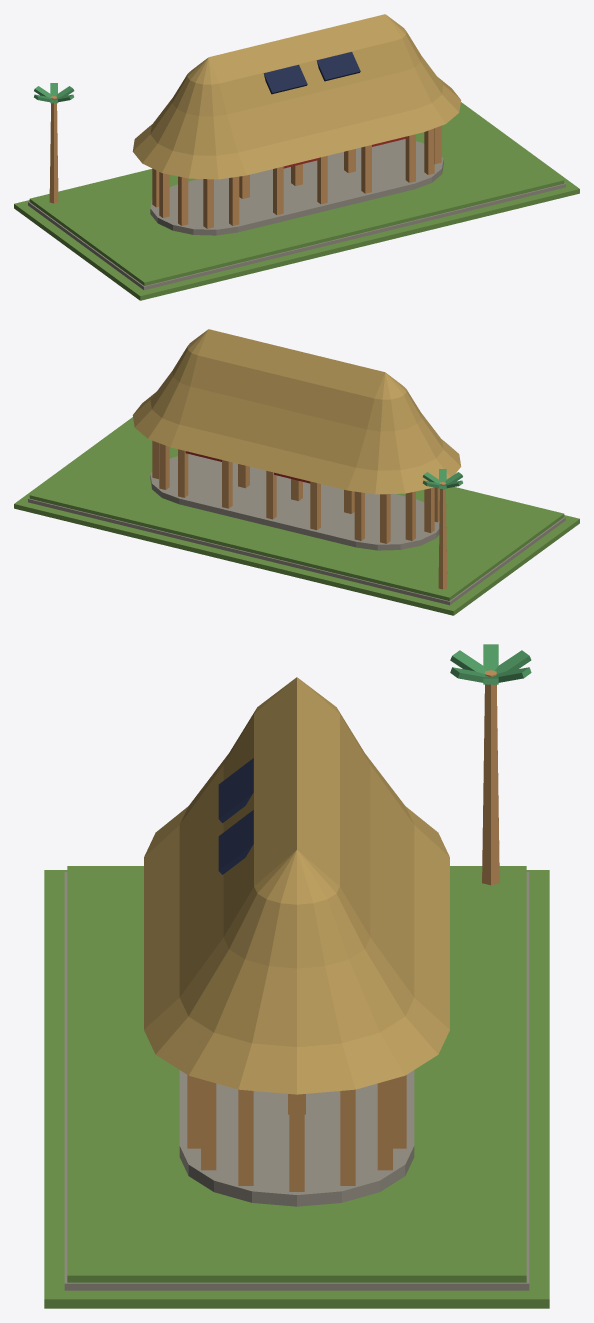
Rendered from house-2x1-1f-fale-a-solar.glb.
3 renders of one model, top to bottom at view 1: azimuth 30°, elevation 25°; view 2: azimuth 150°, elevation 25°; view 3: azimuth 270°, elevation 25°, orthographic. The views are drawn at different scales.
Visible parts, largest first — view 1: house-2x1-1f-fale-a-solar; view 2: house-2x1-1f-fale-a-solar; view 3: house-2x1-1f-fale-a-solar.
Boxes of the visible parts, x1,y1,x2,y2 form: house-2x1-1f-fale-a-solar: (14,14,579,300); house-2x1-1f-fale-a-solar: (14,329,579,615); house-2x1-1f-fale-a-solar: (44,644,549,1308).
Size of the model in its own units: 1.99 by 0.715 by 0.99.
Materials: 1 (1 with a texture image).
